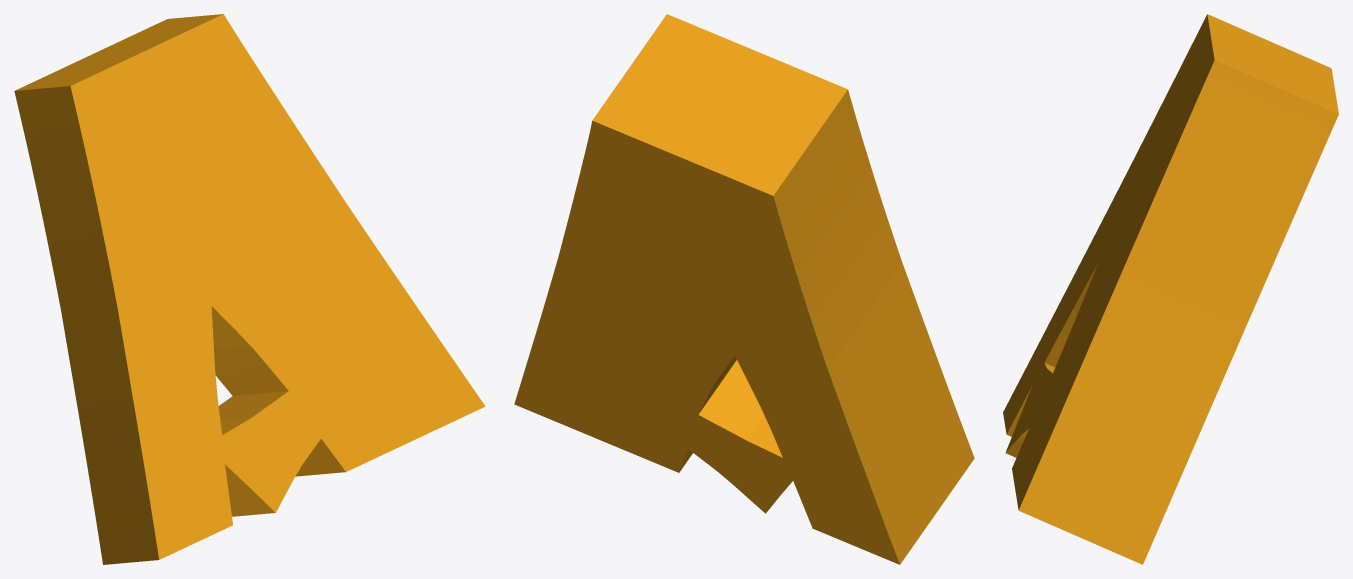
File: roadmap_a.glb
3 renders of one model, left to right at view 1: azimuth 30°, elevation 25°; view 2: azimuth 150°, elevation 25°; view 3: azimuth 270°, elevation 25°, orthographic. The views are drawn at different scales.
Visible parts, largest first — view 1: Text.003; view 2: Text.003; view 3: Text.003.
Boxes of the visible parts, x1,y1,x2,y2 form: Text.003: (14,14,485,564); Text.003: (514,14,974,564); Text.003: (1003,14,1338,564).
Bounding box in the file's own units: 0.5987 × 0.8091 × 0.5052.
